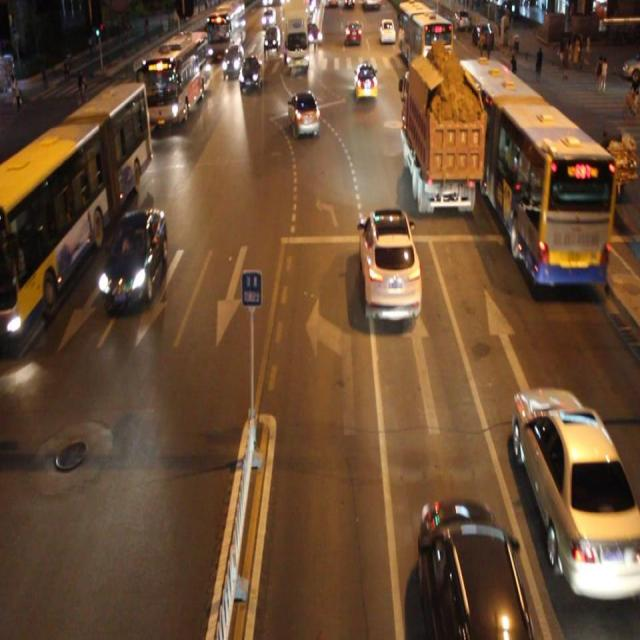bus: (402, 58, 477, 210)
car: (514, 388, 640, 596), (418, 498, 530, 640), (358, 207, 421, 323), (104, 210, 167, 307), (287, 89, 320, 140), (238, 55, 264, 94), (354, 61, 378, 100)
van: (0, 82, 146, 341), (459, 56, 610, 288), (144, 32, 208, 129)
